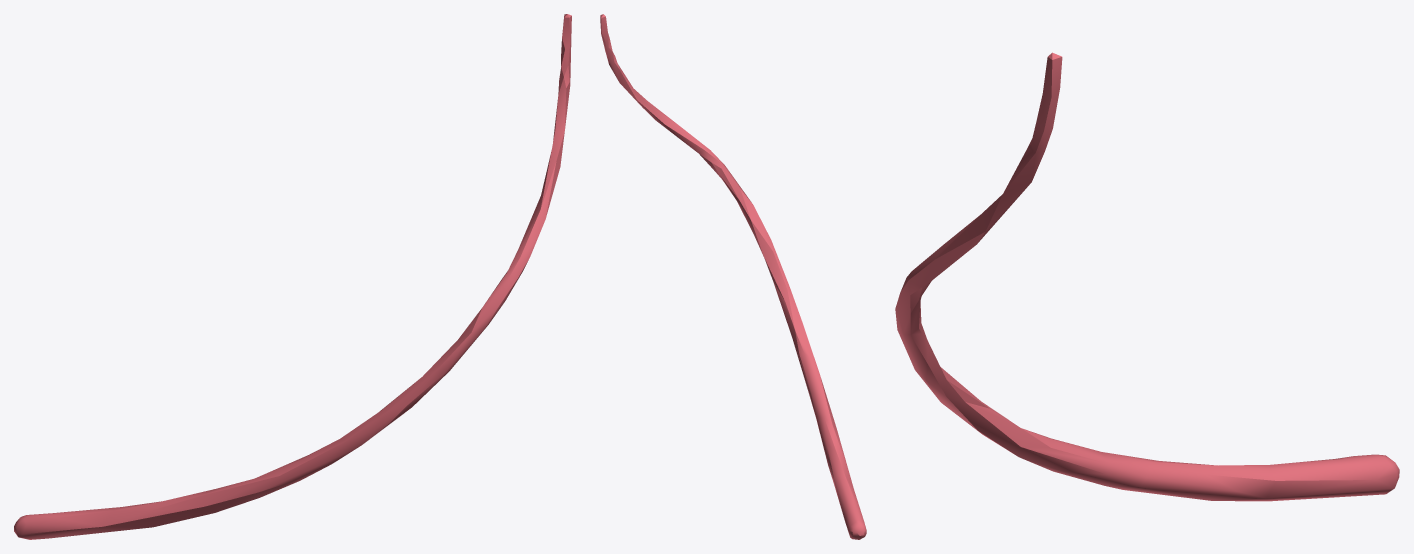
The model's file is fma50520_fj1706m.glb.
3 views of the same model, side by side, from view 1: azimuth 30°, elevation 25°; view 2: azimuth 150°, elevation 25°; view 3: azimuth 270°, elevation 25° (orthographic). The views are drawn at different scales.
Visible parts, largest first — view 1: FMA50520_FJ1706M; view 2: FMA50520_FJ1706M; view 3: FMA50520_FJ1706M.
Part boxes in pixels (<box>): FMA50520_FJ1706M: <box>14,14,571,539</box>; FMA50520_FJ1706M: <box>600,14,866,539</box>; FMA50520_FJ1706M: <box>895,52,1399,501</box>.
Size of the model in its own units: 0.0192 by 0.0203 by 0.0121.
